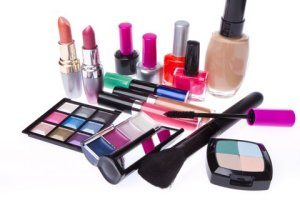Nonrec_Other: (22, 4, 298, 195)
